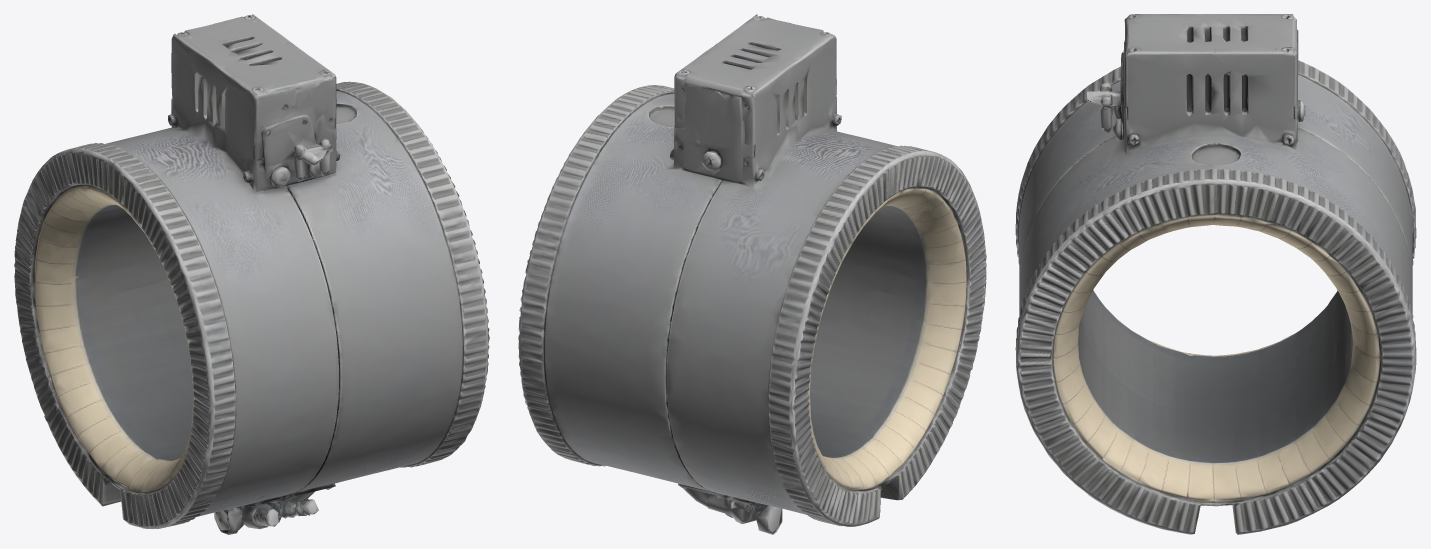
Rendered from acc-resistencia-cilindro.glb.
3 views of the same model, side by side, from view 1: azimuth 30°, elevation 25°; view 2: azimuth 150°, elevation 25°; view 3: azimuth 270°, elevation 25° (orthographic). The views are drawn at different scales.
Parts seen in each view (by area): view 1: tripo_node_81cee0bc-9011-46b4-bbef-8c16325e27cf; view 2: tripo_node_81cee0bc-9011-46b4-bbef-8c16325e27cf; view 3: tripo_node_81cee0bc-9011-46b4-bbef-8c16325e27cf.
Part boxes in pixels (x1,y1,x2,y2): tripo_node_81cee0bc-9011-46b4-bbef-8c16325e27cf: [14, 14, 489, 534]; tripo_node_81cee0bc-9011-46b4-bbef-8c16325e27cf: [518, 14, 986, 534]; tripo_node_81cee0bc-9011-46b4-bbef-8c16325e27cf: [1015, 14, 1416, 534].
Size of the model in its own units: 0.2294 by 0.3547 by 0.2786.
1 material, 1 textured.
